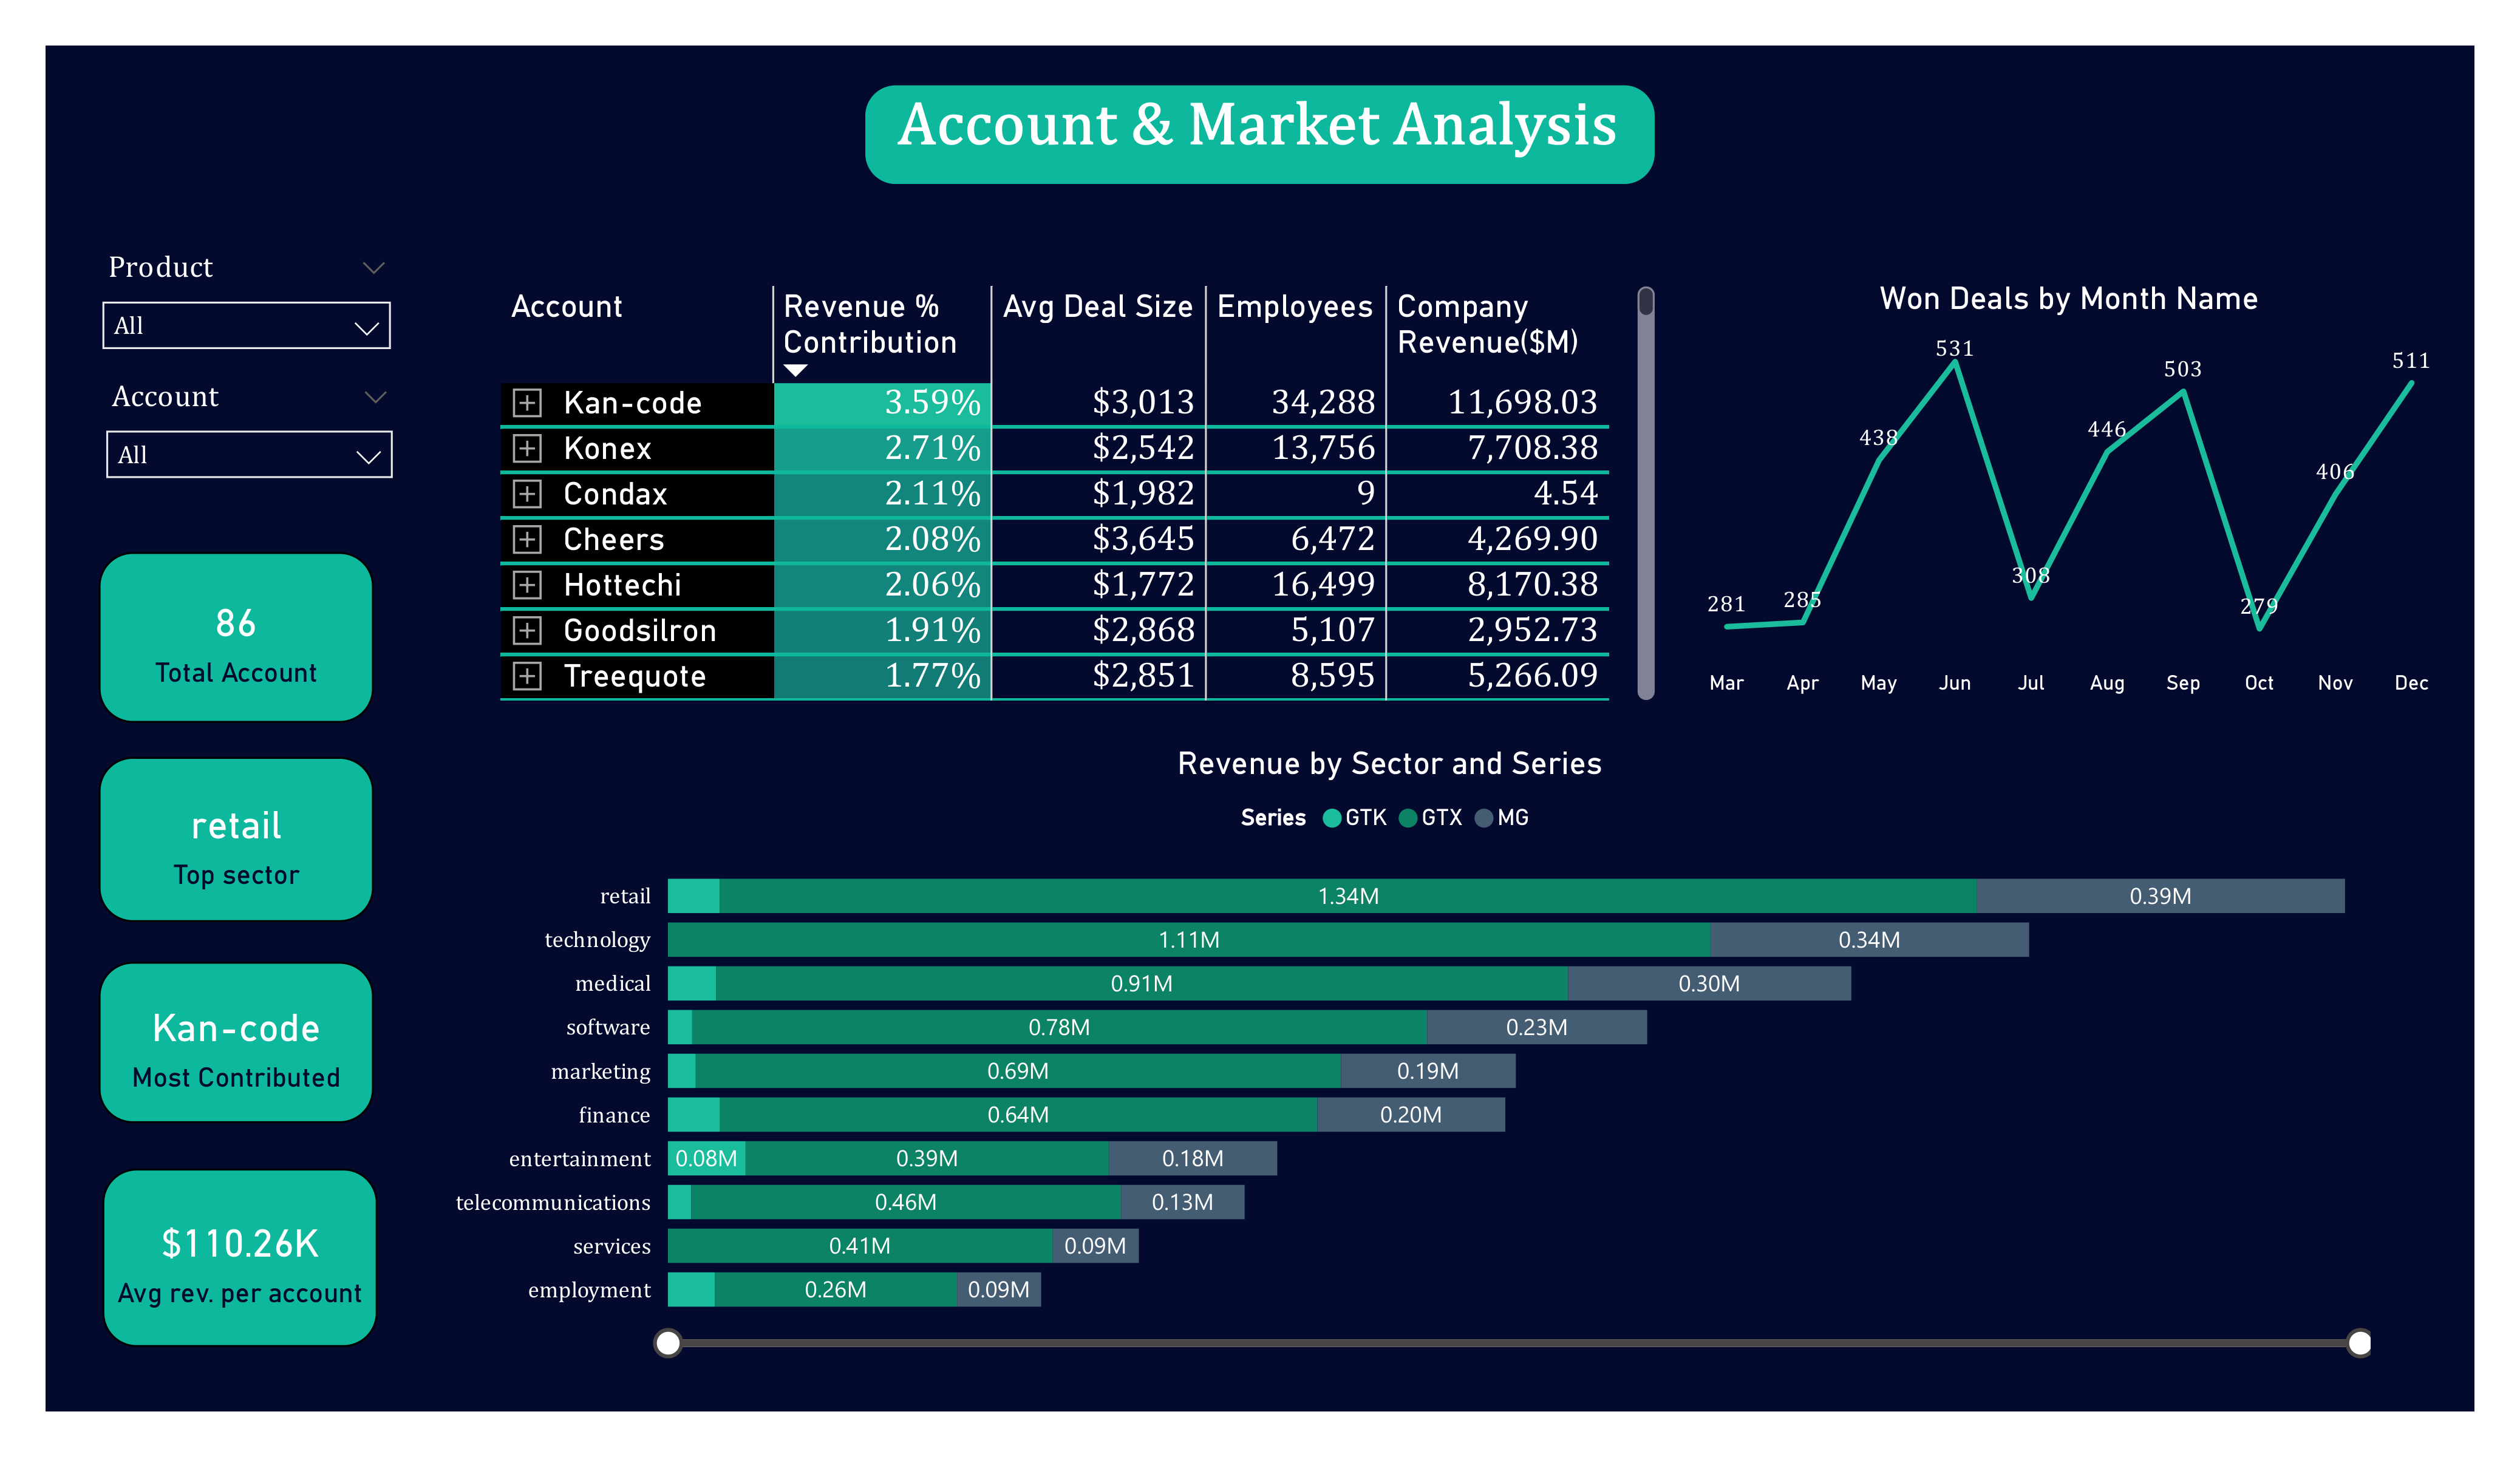

Layout of this report page (visuals, bound fields, positions):
{"tool":"powerbi","page":{"name":"Account & Market Analysis","canvas":[1280,720],"ordinal":3},"visuals":[{"type":"pivotTable","fields":{"Rows":["accounts.account","products.product"],"Values":["pipeline.Revenue % Contibution","pipeline.Avg Deal Size","Sum(accounts.employees)","Sum(accounts.revenue)"]},"box":[235.4,122.5,617.2,227.5],"z":3000},{"type":"barChart","fields":{"Category":["accounts.sector"],"Y":["Sum(pipeline.close_value)"],"Series":["products.series"]},"box":[191.7,368.3,1033.3,326.7],"z":4000},{"type":"card","fields":{"Values":["Min(accounts.account)"]},"box":[28.1,483.3,145,85],"z":5000},{"type":"card","fields":{"Values":["Count(pipeline.account)"]},"box":[28.1,267.2,145,90],"z":6000},{"type":"slicer","fields":{"Values":["products.product"]},"box":[20,104,172,78],"z":7000},{"type":"textbox","box":[431.6,20.7,416.7,52.5],"z":8000},{"type":"card","fields":{"Values":["Min(accounts.sector)"]},"box":[28.1,375,145,86.7],"z":9000},{"type":"card","fields":{"Values":["pipeline.Avg revenue per account"]},"box":[30.2,591.7,144.7,93.8],"z":10000},{"type":"lineChart","title":"Won Deals by Month Name","fields":{"Category":["pipeline.Close Month Name"],"Y":["pipeline.Won Deals"]},"box":[865,123.3,403.3,226.7],"z":12000},{"type":"slicer","fields":{"Values":["pipeline.account"]},"box":[21.7,171.7,171.7,78.3],"z":13000}]}

Visuals, with their boxes on the page's 1280x720 design canvas (x1, y1, x2, y2). These are canvas units, not pixel positions in the 2520x1457 screenshot, which may show the page scaled, cropped or inside an application window:
pivotTable - accounts.account x products.product: l=235, t=122, r=853, b=350
barChart - accounts.sector x Sum(pipeline.close_value): l=192, t=368, r=1225, b=695
card - Min(accounts.account): l=28, t=483, r=173, b=568
card - Count(pipeline.account): l=28, t=267, r=173, b=357
slicer - products.product: l=20, t=104, r=192, b=182
textbox: l=432, t=21, r=848, b=73
card - Min(accounts.sector): l=28, t=375, r=173, b=462
card - pipeline.Avg revenue per account: l=30, t=592, r=175, b=686
"Won Deals by Month Name" lineChart: l=865, t=123, r=1268, b=350
slicer - pipeline.account: l=22, t=172, r=193, b=250
